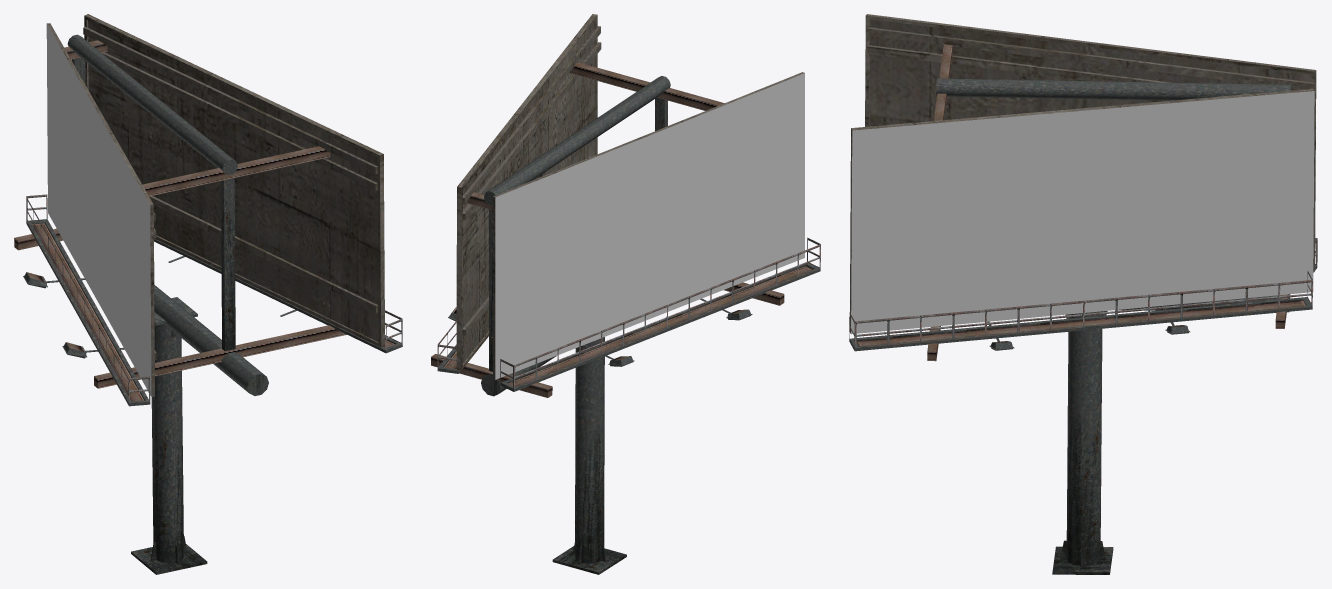
The model's file is BillboardC.FBX.
The picture shows the model from 3 angles, left to right: view 1: azimuth 30°, elevation 25°; view 2: azimuth 150°, elevation 25°; view 3: azimuth 270°, elevation 25°; orthographic projection. The views are drawn at different scales.
Parts seen in each view (by area): view 1: BillboardC; view 2: BillboardC; view 3: BillboardC.
Boxes of the visible parts, left/top/right/bottom form: BillboardC: left=14, top=14, right=402, bottom=574; BillboardC: left=431, top=14, right=820, bottom=574; BillboardC: left=849, top=14, right=1317, bottom=574.
Size of the model in its own units: 553 by 788 by 904.
